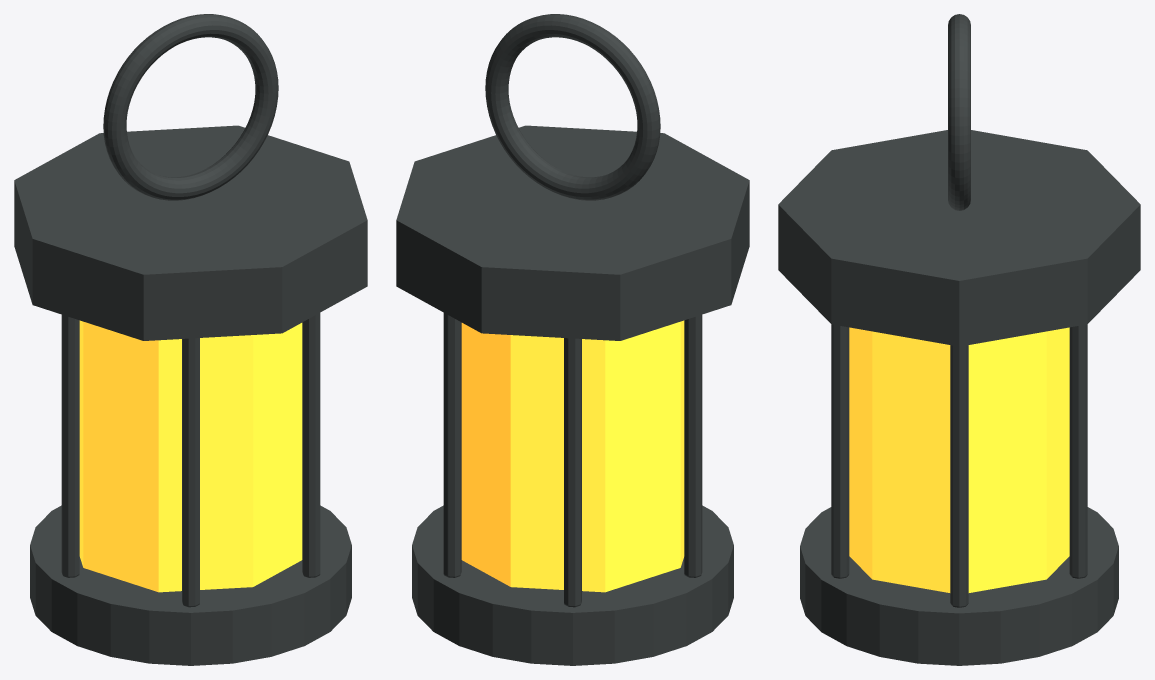
File: lantern.glb
3 renders of one model, left to right at view 1: azimuth 30°, elevation 25°; view 2: azimuth 150°, elevation 25°; view 3: azimuth 270°, elevation 25°, orthographic.
Parts seen in each view (by area): view 1: lantern_roof, lantern_glass, lantern_base, lantern_handle, lantern_cage.003, lantern_cage.005, lantern_cage.004; view 2: lantern_roof, lantern_glass, lantern_base, lantern_handle, lantern_cage.003, lantern_cage.001, lantern_cage.002; view 3: lantern_roof, lantern_glass, lantern_base, lantern_cage, lantern_cage.001, lantern_cage.005, lantern_handle.
Part boxes in pixels (x1,y1,x2,y2): lantern_roof: [14, 125, 367, 340]; lantern_glass: [79, 320, 302, 592]; lantern_base: [30, 505, 351, 665]; lantern_handle: [103, 14, 278, 200]; lantern_cage.003: [61, 314, 79, 577]; lantern_cage.005: [302, 313, 320, 577]; lantern_cage.004: [182, 338, 199, 607]; lantern_roof: [396, 125, 749, 340]; lantern_glass: [461, 320, 684, 592]; lantern_base: [412, 505, 733, 665]; lantern_handle: [485, 14, 660, 200]; lantern_cage.003: [684, 314, 702, 577]; lantern_cage.001: [443, 313, 461, 577]; lantern_cage.002: [564, 338, 581, 607]; lantern_roof: [778, 130, 1140, 346]; lantern_glass: [849, 327, 1069, 592]; lantern_base: [800, 507, 1118, 665]; lantern_cage: [950, 345, 968, 607]; lantern_cage.001: [1069, 324, 1087, 578]; lantern_cage.005: [831, 324, 849, 578]; lantern_handle: [948, 14, 970, 210].
Size of the model in its own units: 0.5 by 0.876 by 0.5.
